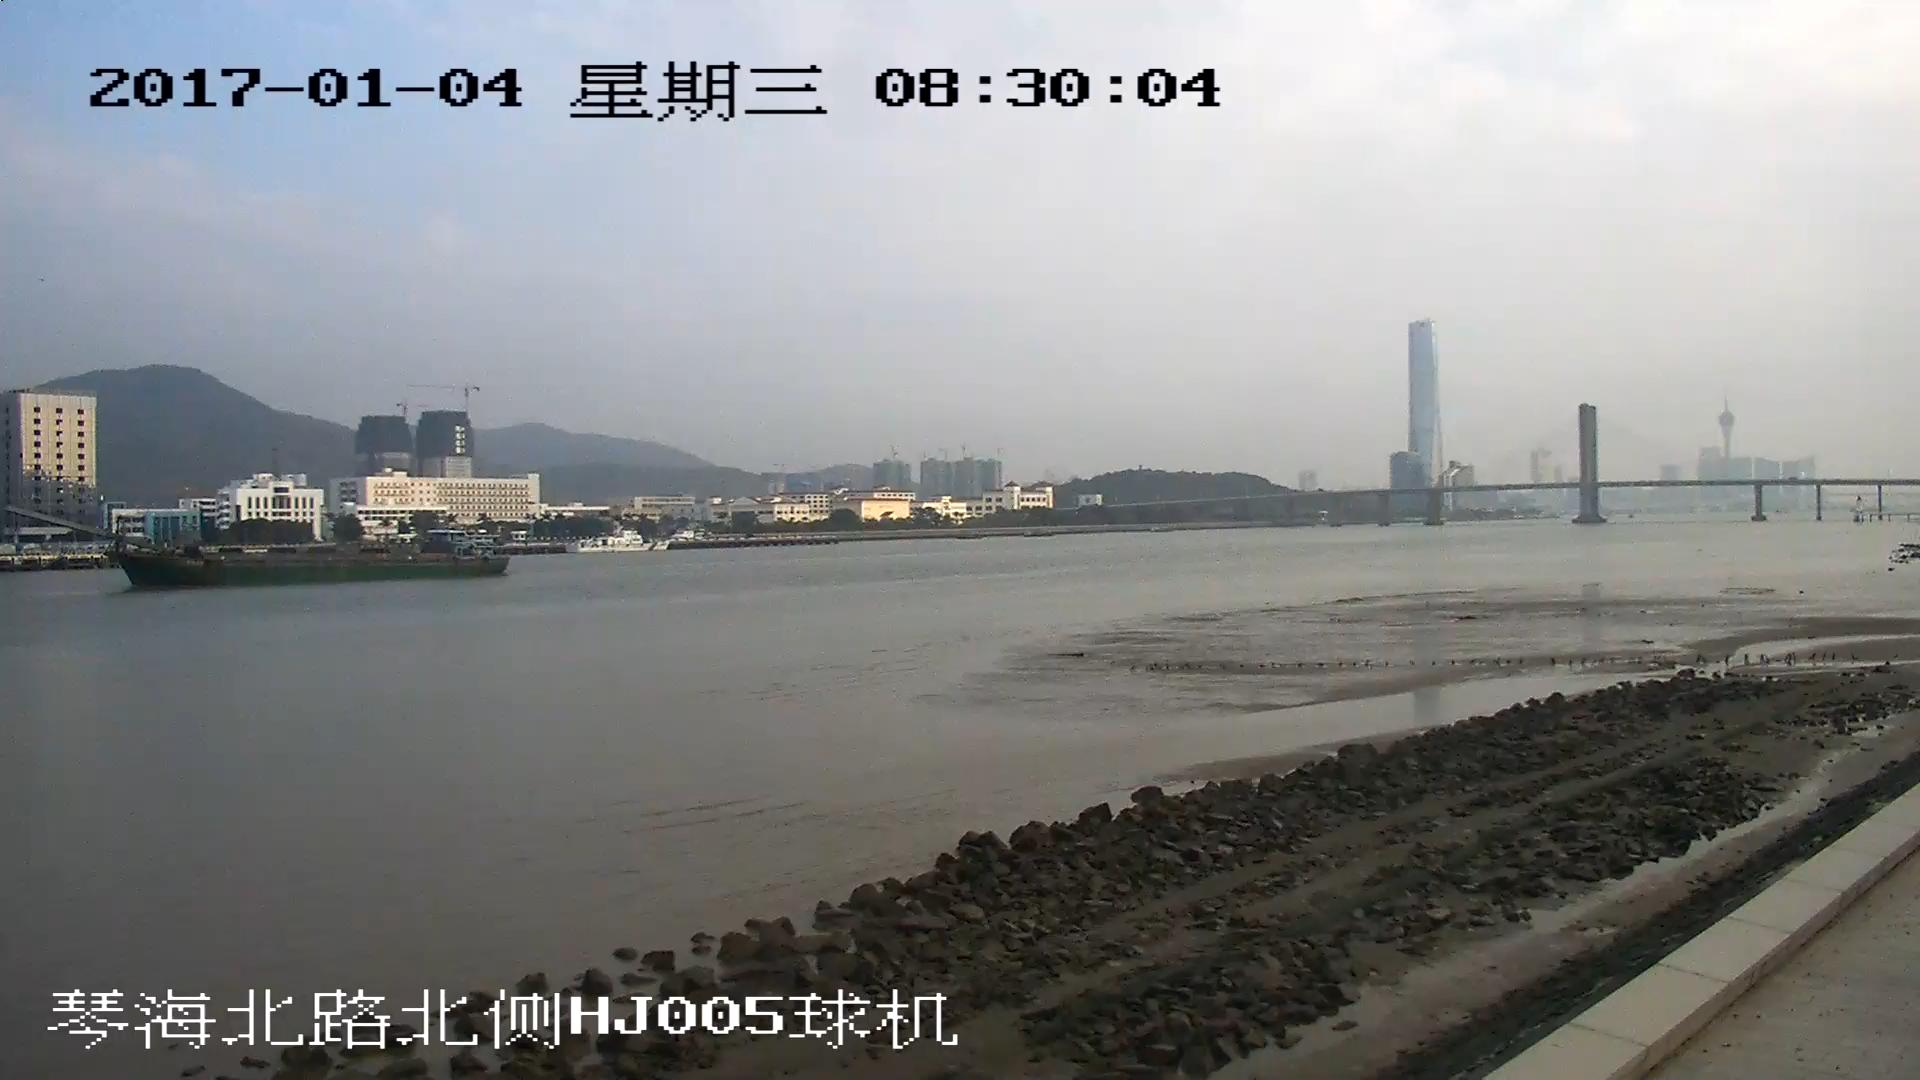bulk cargo carrier: (1, 507, 511, 587)
